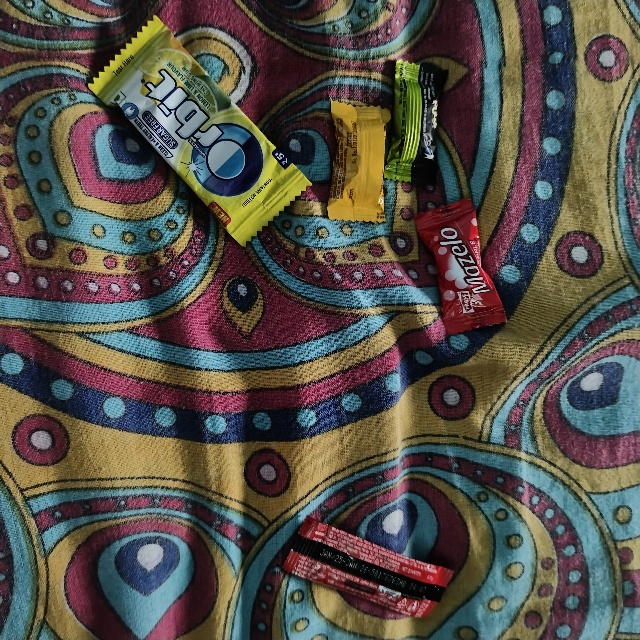Alpenlibe Creamfills: (330, 98, 389, 226)
Mazelo: (409, 216, 483, 342)
Nescafe Coffee: (294, 506, 469, 571)
Orbit: (155, 12, 386, 119)
Pulse: (389, 57, 444, 190)
